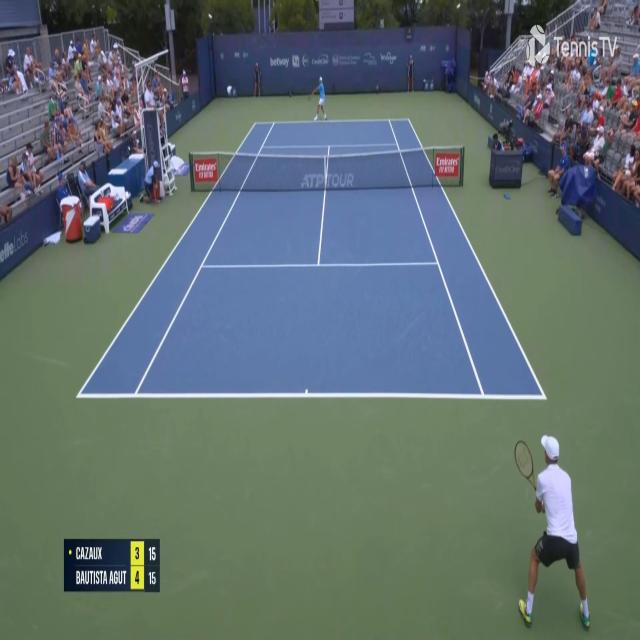tennis-player: (513, 431, 594, 633), (310, 74, 328, 123)
